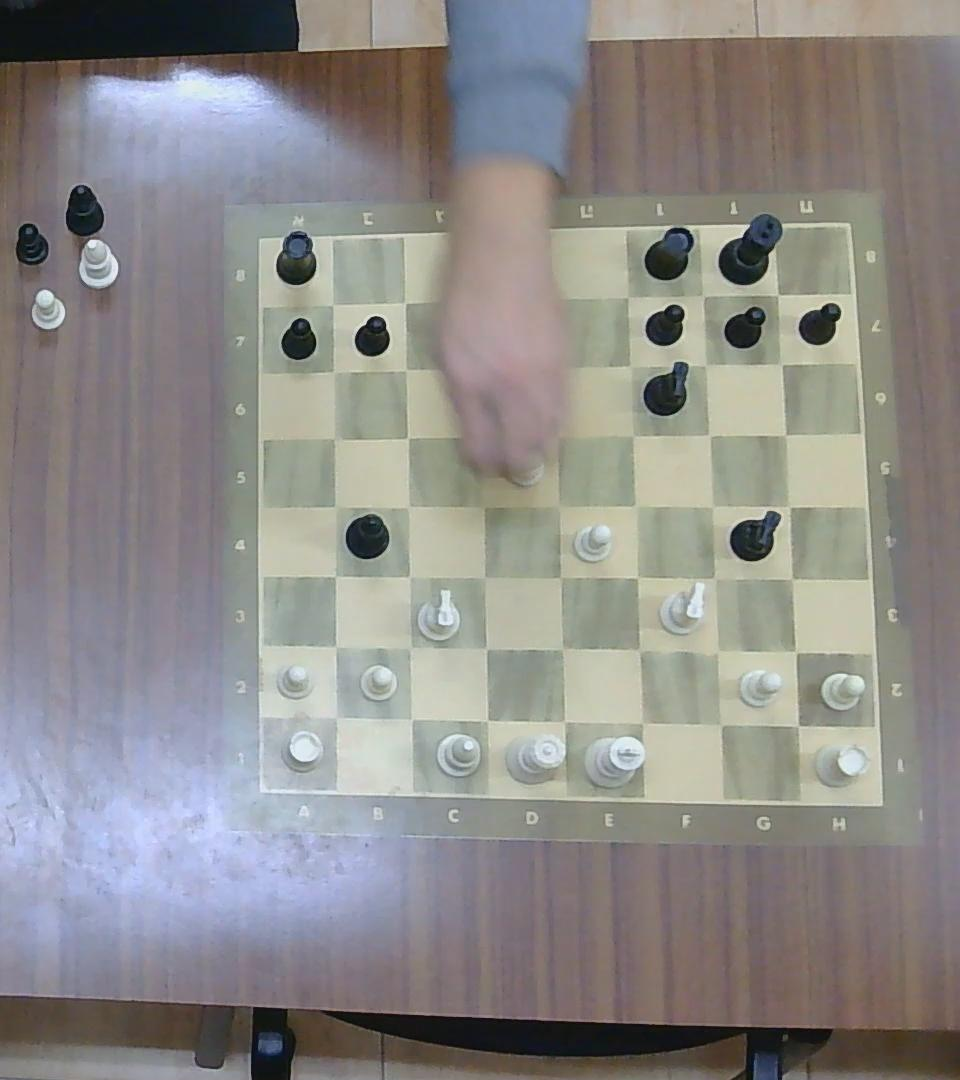xcorner: (702, 705, 737, 739), (624, 705, 658, 738), (701, 635, 734, 667), (624, 633, 656, 665), (781, 709, 813, 741), (546, 632, 578, 663), (320, 701, 351, 733), (394, 703, 425, 734), (470, 703, 501, 734), (470, 632, 501, 663), (548, 704, 578, 736), (780, 636, 811, 666), (320, 631, 350, 661), (534, 290, 564, 320), (622, 561, 651, 592), (545, 561, 574, 592), (394, 633, 424, 662), (470, 562, 499, 591), (699, 564, 728, 593), (394, 562, 423, 591), (320, 561, 349, 589), (776, 565, 806, 592), (543, 491, 573, 518), (470, 490, 498, 518), (621, 492, 650, 519), (617, 420, 645, 447), (774, 492, 802, 519), (395, 492, 421, 519), (318, 292, 345, 318), (699, 491, 726, 517), (542, 422, 569, 448), (321, 493, 349, 518), (319, 358, 345, 384), (320, 424, 347, 449), (467, 421, 492, 448), (394, 424, 420, 449), (615, 284, 641, 309), (696, 421, 722, 446), (690, 282, 716, 307), (617, 353, 643, 378), (459, 289, 484, 314), (693, 352, 718, 376), (768, 350, 793, 374), (773, 421, 798, 445), (539, 355, 563, 380), (393, 357, 417, 381), (766, 283, 791, 306), (463, 355, 486, 380), (392, 290, 415, 313)
